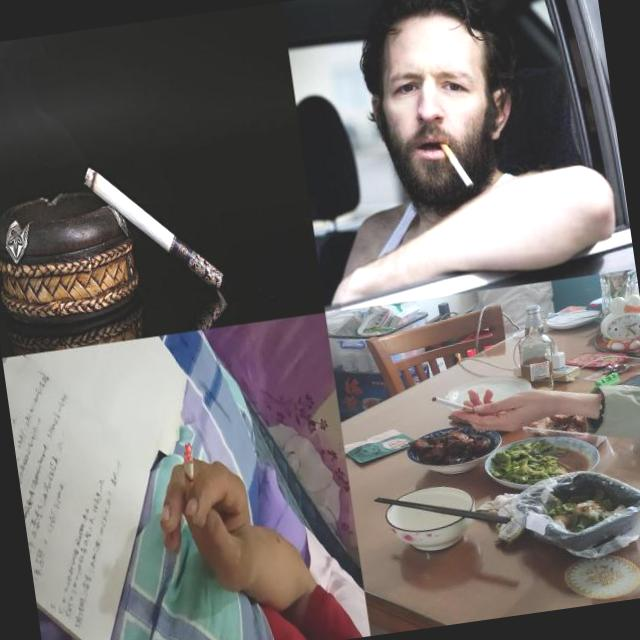smoke: (82, 149, 226, 306), (424, 120, 481, 194), (177, 441, 202, 511), (431, 391, 478, 419)
